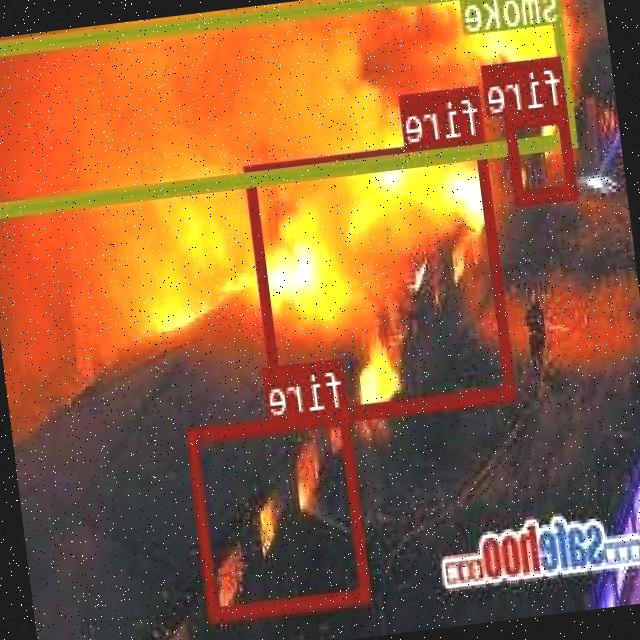fire: (246, 133, 516, 424), (188, 406, 374, 619), (507, 104, 580, 202)
smoke: (0, 0, 578, 213)
